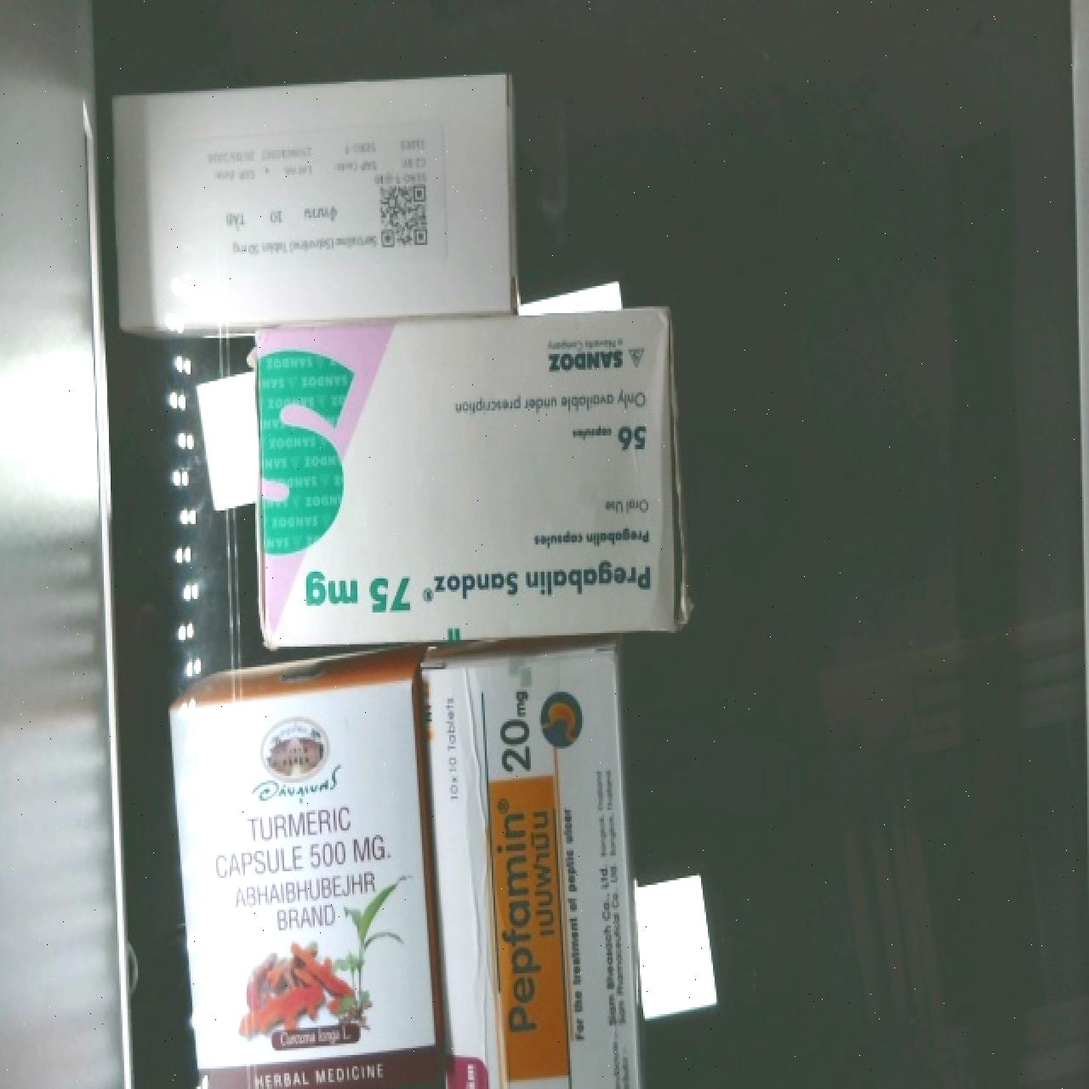medicine_label_obb: (188, 777, 424, 973), (284, 534, 676, 639), (483, 688, 571, 1071)
qr_code: (362, 158, 452, 266)
